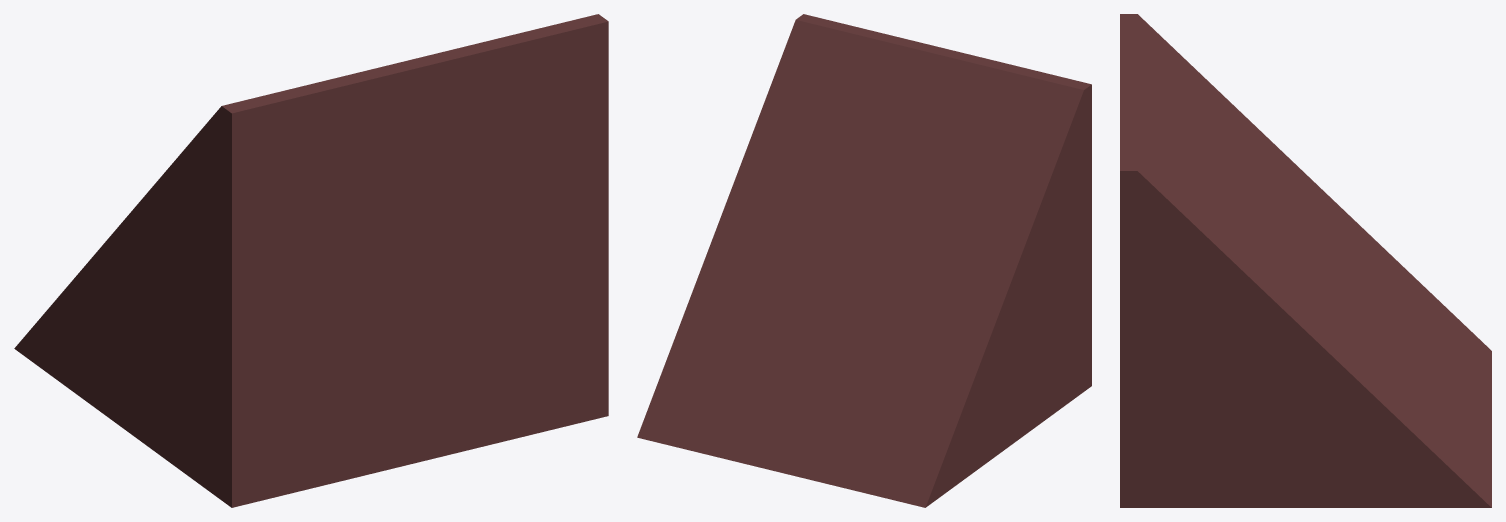
Rendered from Biom_Gras_SchiefeEbene.fbx.
3 renders of one model, left to right at view 1: azimuth 30°, elevation 25°; view 2: azimuth 150°, elevation 25°; view 3: azimuth 270°, elevation 25°, orthographic. The views are drawn at different scales.
Parts seen in each view (by area): view 1: Schiefe Ebene; view 2: Schiefe Ebene; view 3: Schiefe Ebene.
Part boxes in pixels (x1,y1,x2,y2): Schiefe Ebene: (14,14,608,507); Schiefe Ebene: (637,14,1091,507); Schiefe Ebene: (1120,14,1491,507).
Bounding box in the file's own units: 100 × 100 × 100.
